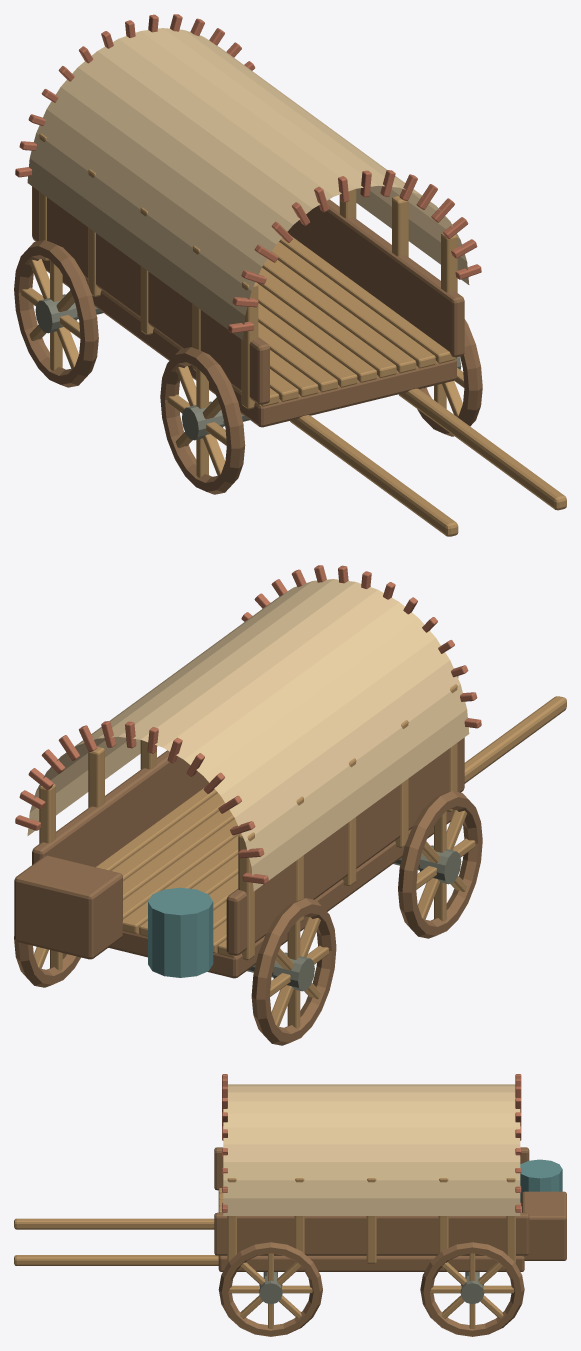
File: caravan.glb
3 views of the same model, one above another, from view 1: azimuth 30°, elevation 25°; view 2: azimuth 150°, elevation 25°; view 3: azimuth 270°, elevation 25° (orthographic). The views are drawn at different scales.
Parts seen in each view (by area): view 1: Curved linen canopy, Side rail, Side rail.001, Wagon bed, Wooden wheel, Wooden wheel.001, Tow shaft, Tow shaft.001, Bed plank 8, Bed plank 7, Bed plank 6, Bed plank 9 (+11 smaller); view 2: Curved linen canopy, Side rail, Travelling chest, Side rail.001, Water jar, Wooden wheel, Wooden wheel.001, Wagon bed, Tow shaft, Bed plank 6, Bed plank 7, Bed plank 8 (+11 smaller); view 3: Curved linen canopy, Side rail.001, Wooden wheel.002, Wooden wheel.003, Wagon bed, Travelling chest, Tow shaft, Tow shaft.001, Water jar, Side rail, Carved upright.007, Wheel hub.003 (+6 smaller).
Part boxes in pixels (x1=…): Curved linen canopy: x1=27, y1=28, x2=469, y2=340; Side rail: x1=32, y1=186, x2=269, y2=404; Side rail.001: x1=287, y1=199, x2=464, y2=357; Wagon bed: x1=42, y1=259, x2=456, y2=427; Wooden wheel: x1=160, y1=347, x2=245, y2=494; Wooden wheel.001: x1=14, y1=240, x2=98, y2=387; Tow shaft: x1=290, y1=415, x2=458, y2=536; Tow shaft.001: x1=398, y1=388, x2=566, y2=510; Bed plank 8: x1=271, y1=242, x2=435, y2=368; Bed plank 7: x1=262, y1=259, x2=416, y2=373; Bed plank 6: x1=257, y1=267, x2=396, y2=377; Bed plank 9: x1=279, y1=236, x2=455, y2=363; Curved linen canopy: x1=27, y1=579, x2=469, y2=891; Side rail: x1=226, y1=737, x2=464, y2=955; Travelling chest: x1=14, y1=855, x2=122, y2=959; Side rail.001: x1=32, y1=750, x2=208, y2=867; Water jar: x1=148, y1=887, x2=213, y2=977; Wooden wheel: x1=398, y1=791, x2=482, y2=938; Wooden wheel.001: x1=251, y1=898, x2=336, y2=1045; Wagon bed: x1=108, y1=810, x2=454, y2=978; Tow shaft: x1=464, y1=696, x2=566, y2=783; Bed plank 6: x1=123, y1=818, x2=239, y2=918; Bed plank 7: x1=123, y1=809, x2=234, y2=899; Bed plank 8: x1=111, y1=792, x2=224, y2=880; Curved linen canopy: x1=223, y1=1084, x2=520, y2=1215; Side rail.001: x1=214, y1=1212, x2=529, y2=1255; Wooden wheel.002: x1=218, y1=1242, x2=322, y2=1336; Wooden wheel.003: x1=420, y1=1242, x2=524, y2=1336; Wagon bed: x1=218, y1=1256, x2=524, y2=1271; Travelling chest: x1=522, y1=1191, x2=566, y2=1260; Tow shaft: x1=14, y1=1218, x2=214, y2=1229; Tow shaft.001: x1=14, y1=1255, x2=218, y2=1265; Water jar: x1=520, y1=1159, x2=562, y2=1206; Side rail: x1=214, y1=1147, x2=529, y2=1190; Carved upright.007: x1=366, y1=1178, x2=376, y2=1263; Wheel hub.003: x1=460, y1=1275, x2=484, y2=1304.
Size of the model in its own units: 2.32 by 2.62 by 6.14.
